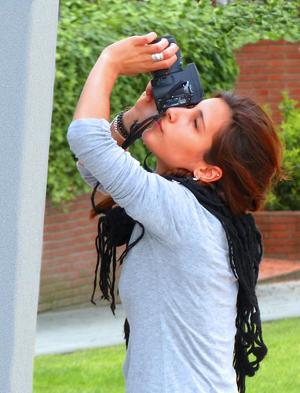person: (68, 31, 275, 393)
